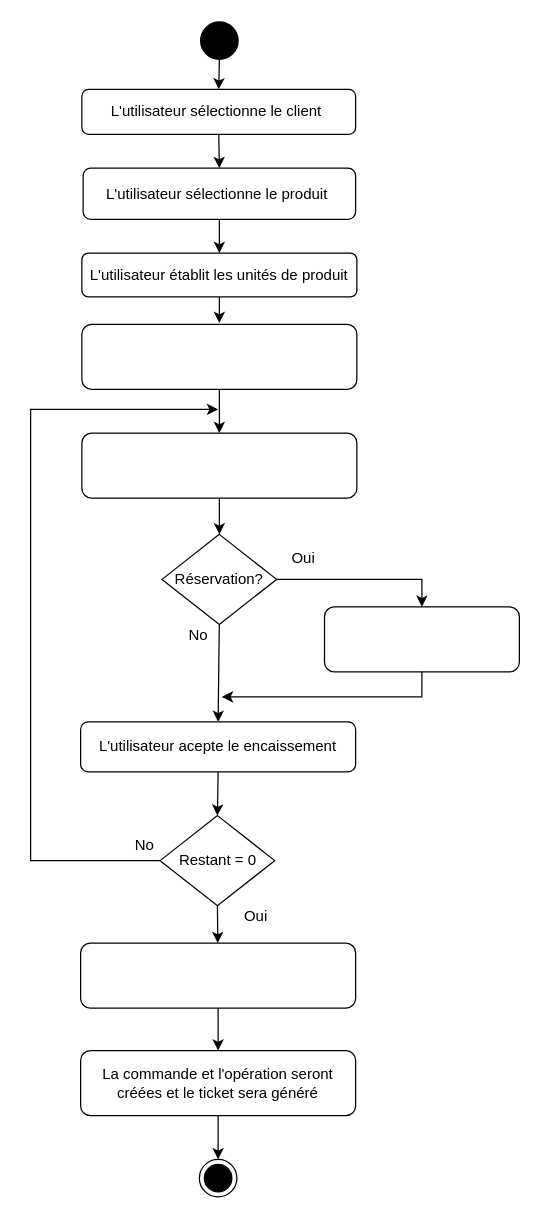
Some shapes in this 541 by 1219 pixel diagram are drawn without their labels. Here are the shapes that lost their labels. From the top down, the box of each, then its label:
(81, 323, 357, 389): L'utilisateur ajoute le produit dans la zone de paiement
(81, 432, 357, 498): L'utilisateur sélectionne le mode de paiement
(323, 606, 519, 672): L'utilisateur seleccione la reservation
(79, 942, 356, 1008): L'utilisateur clique sur le bouton "Finaliser"
